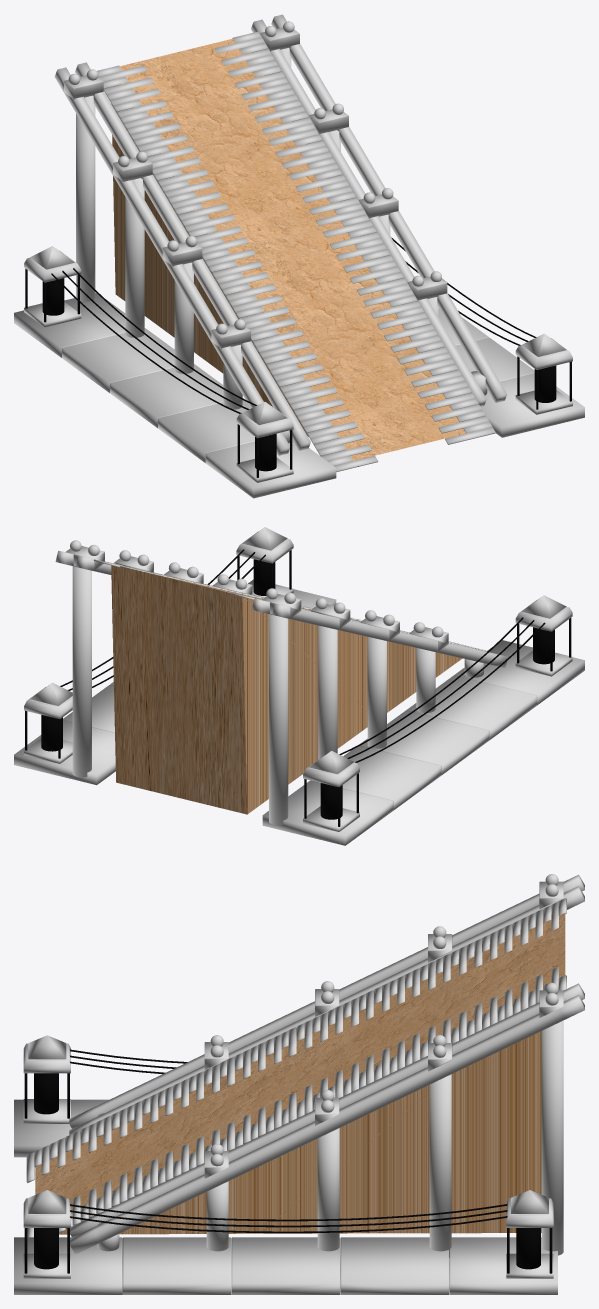
The model's file is gate.fbx.
The picture shows the model from 3 angles, top to bottom: view 1: azimuth 30°, elevation 25°; view 2: azimuth 150°, elevation 25°; view 3: azimuth 270°, elevation 25°; orthographic projection. The views are drawn at different scales.
Visible parts, largest first — view 1: Cube; view 2: Cube; view 3: Cube.
Boxes of the visible parts, bbox=[...] form: Cube: bbox=[14, 14, 584, 498]; Cube: bbox=[14, 527, 584, 845]; Cube: bbox=[14, 874, 584, 1294].
Size of the model in its own units: 0.8455 by 0.5769 by 1.11.
